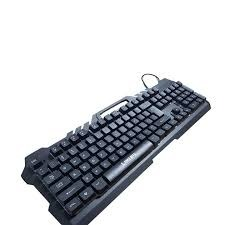keyboard: (12, 59, 214, 223)
